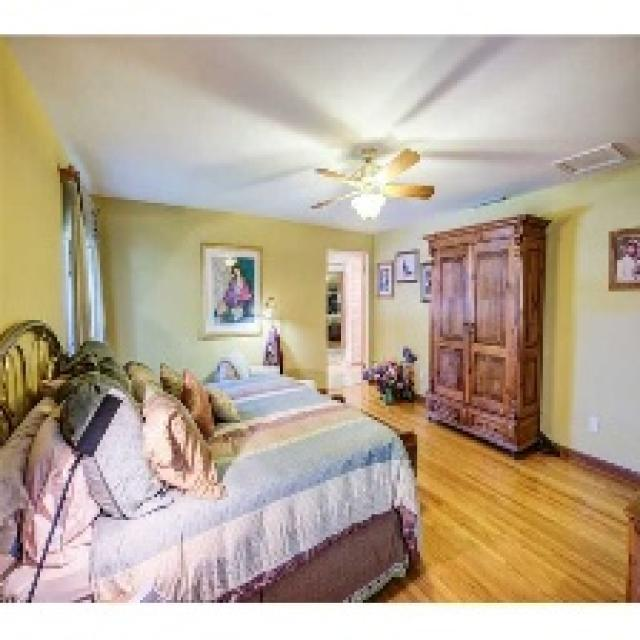Bed: (0, 317, 420, 603)
